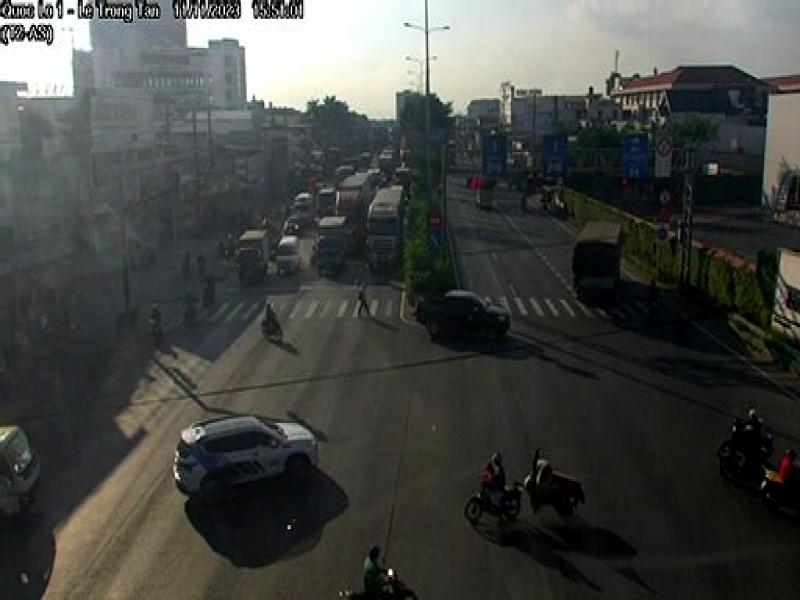truck: (570, 218, 630, 313)
